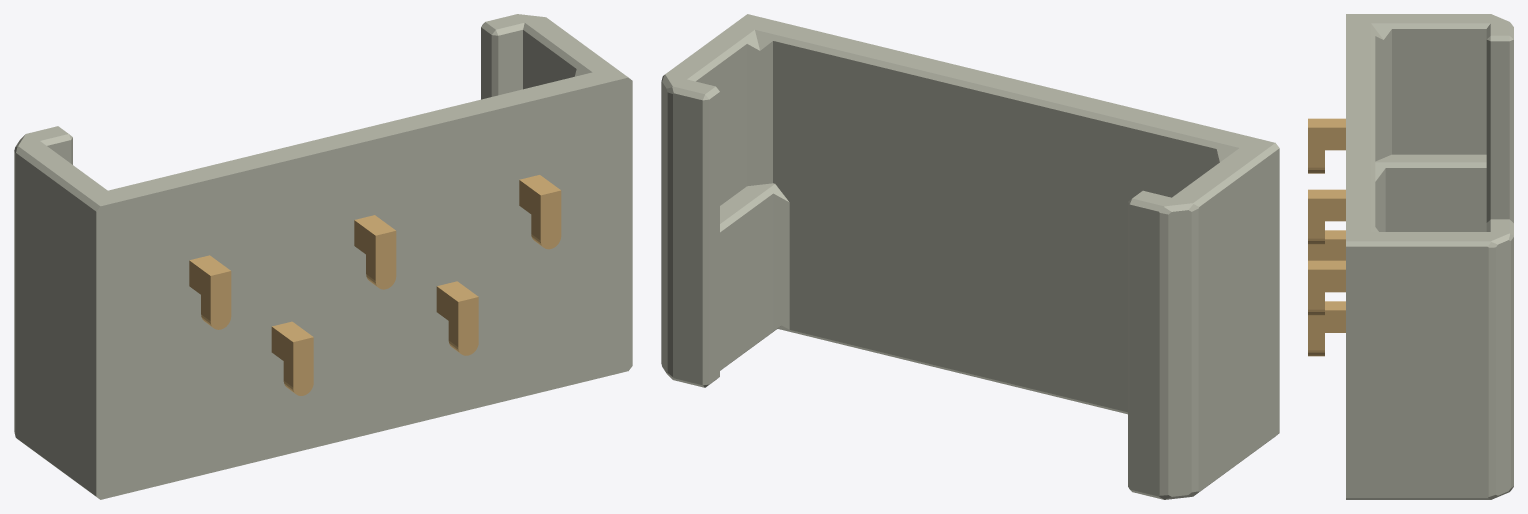
The model's file is Stihl AK Battery Skadis Mount.glb.
3 views of the same model, side by side, from view 1: azimuth 30°, elevation 25°; view 2: azimuth 150°, elevation 25°; view 3: azimuth 270°, elevation 25° (orthographic). The views are drawn at different scales.
Parts seen in each view (by area): view 1: Mesh_Mesh_head_geo.001_lambert2SG.001; view 2: Mesh_Mesh_head_geo.001_lambert2SG.001; view 3: Mesh_Mesh_head_geo.001_lambert2SG.001.
Part boxes in pixels (x1=…): Mesh_Mesh_head_geo.001_lambert2SG.001: x1=14, y1=14, x2=632, y2=499; Mesh_Mesh_head_geo.001_lambert2SG.001: x1=661, y1=14, x2=1279, y2=499; Mesh_Mesh_head_geo.001_lambert2SG.001: x1=1308, y1=14, x2=1513, y2=499.
Bounding box in the file's own units: 0.13 × 0.068 × 0.049.
